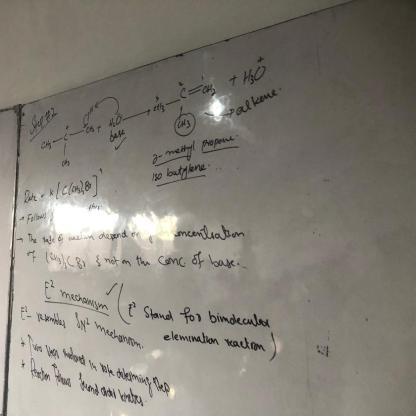Handwritten text: (18, 329, 179, 397), (25, 209, 256, 247), (21, 354, 150, 414), (139, 302, 278, 334), (158, 326, 270, 359), (100, 246, 238, 271), (53, 284, 116, 315)
